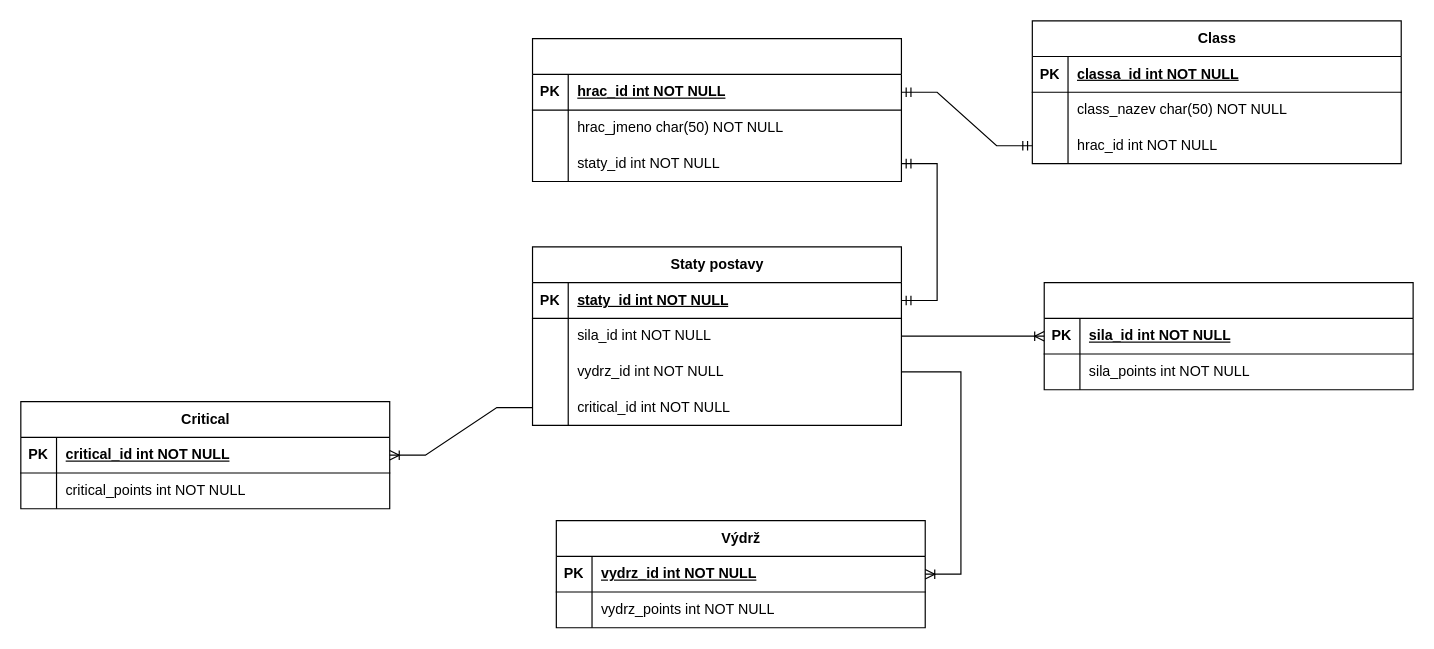
The diagram is 1434 pixels wide and 649 high, and some of its shapes have lost their labels. Each missing label, with the box of its shape:
Hráč: (531, 37, 901, 181)
Síla: (1043, 281, 1413, 390)
